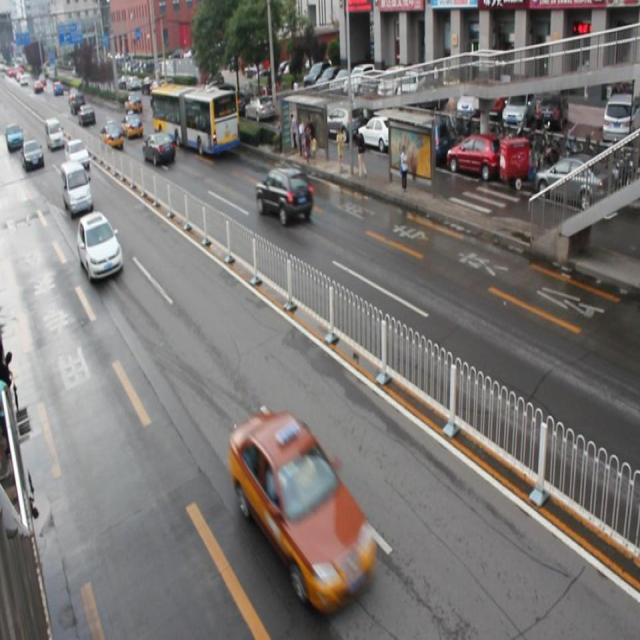car: (229, 410, 379, 614), (256, 165, 314, 225), (77, 208, 123, 281), (141, 131, 175, 166), (64, 139, 89, 167)
truck: (61, 159, 93, 214)
van: (152, 84, 241, 157)
